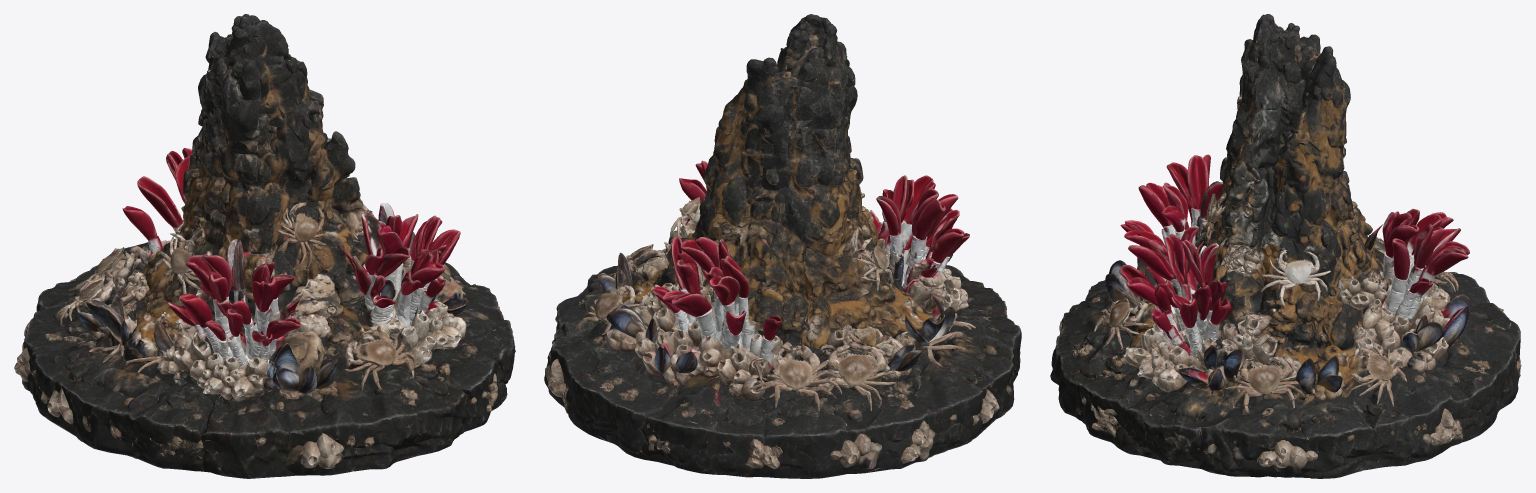
The model's file is vent.glb.
The picture shows the model from 3 angles, left to right: view 1: azimuth 30°, elevation 25°; view 2: azimuth 150°, elevation 25°; view 3: azimuth 270°, elevation 25°; orthographic projection. The views are drawn at different scales.
Parts seen in each view (by area): view 1: Mesh_0; view 2: Mesh_0; view 3: Mesh_0.
Boxes of the visible parts, box(x1,y1,x2,y2) form: Mesh_0: box(14, 14, 515, 478); Mesh_0: box(544, 14, 1021, 478); Mesh_0: box(1050, 14, 1521, 478).
Bounding box in the file's own units: 1.9 × 1.56 × 1.88.
Materials: 1 (1 with a texture image).
